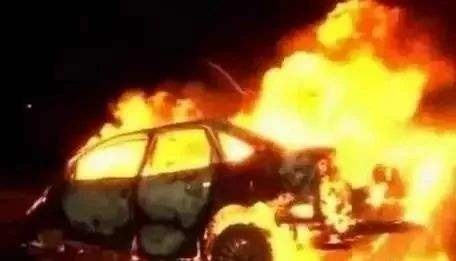fire: (62, 9, 450, 258)
